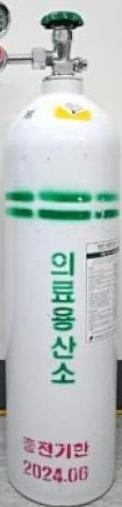cylinder: (1, 1, 122, 507)
